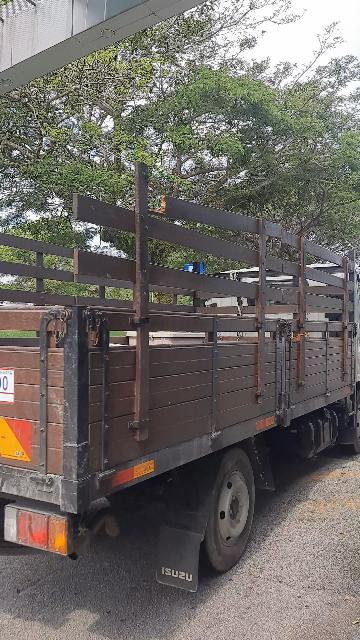lorry: (1, 145, 360, 591)
